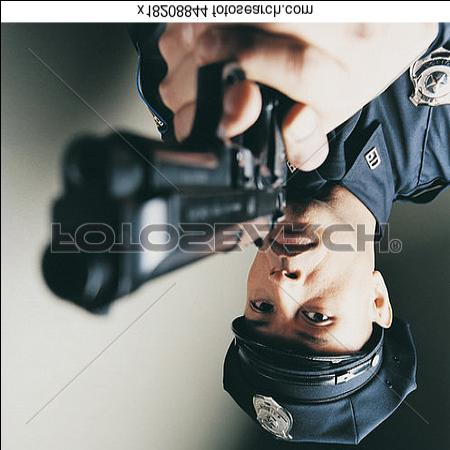Pistol: (40, 58, 291, 318)
